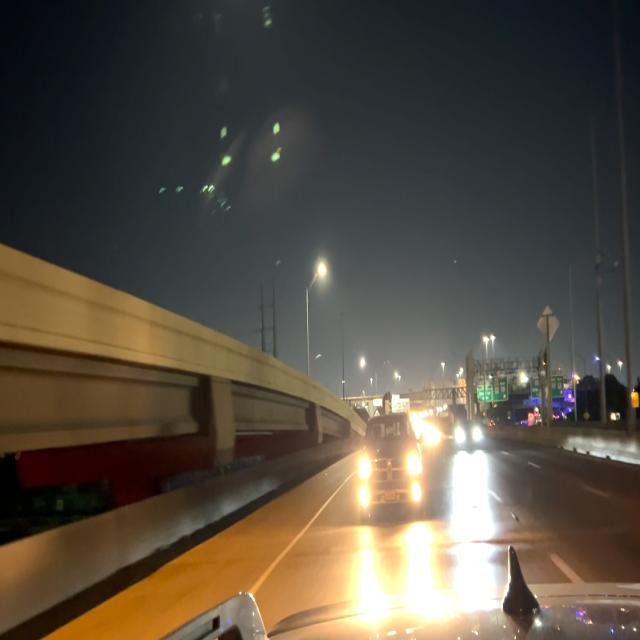back-of-sign: (537, 307, 559, 342)
